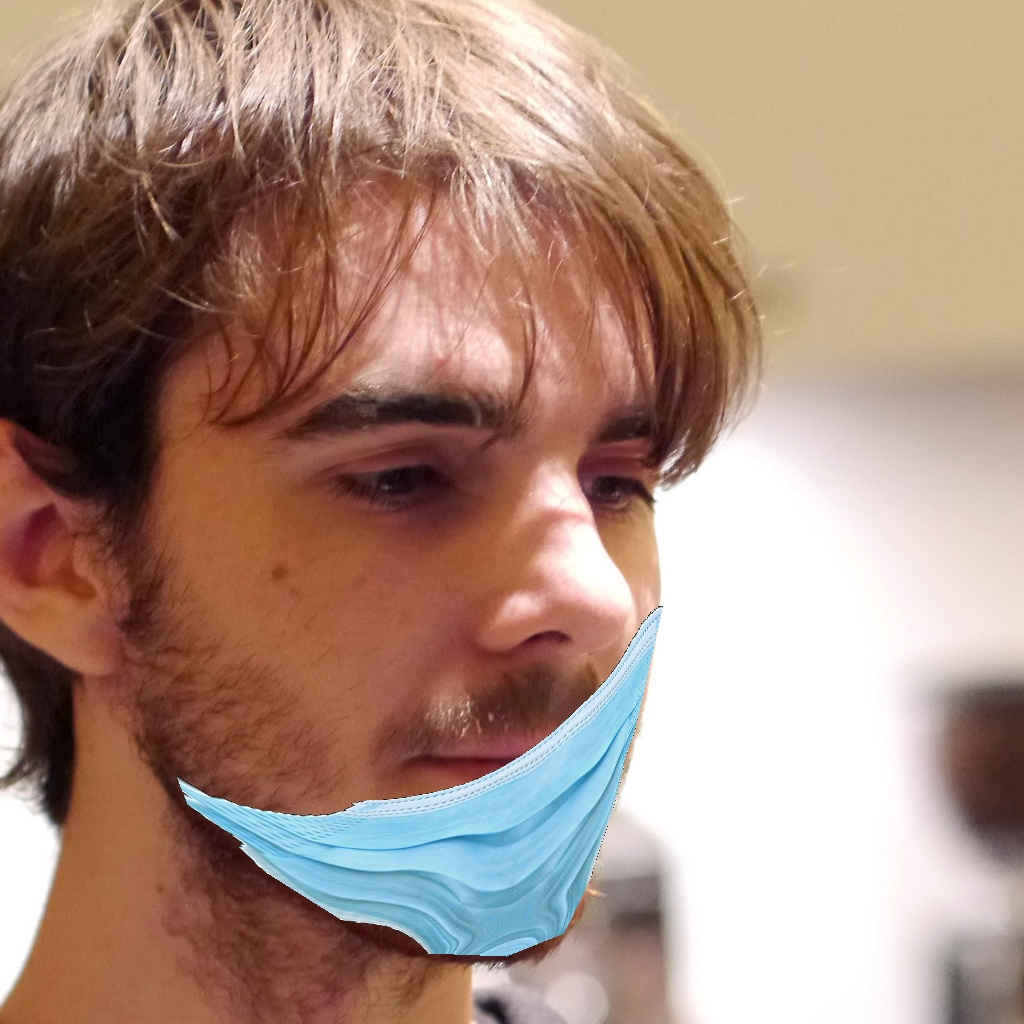mask_weared_incorrect: (208, 368, 664, 976)
